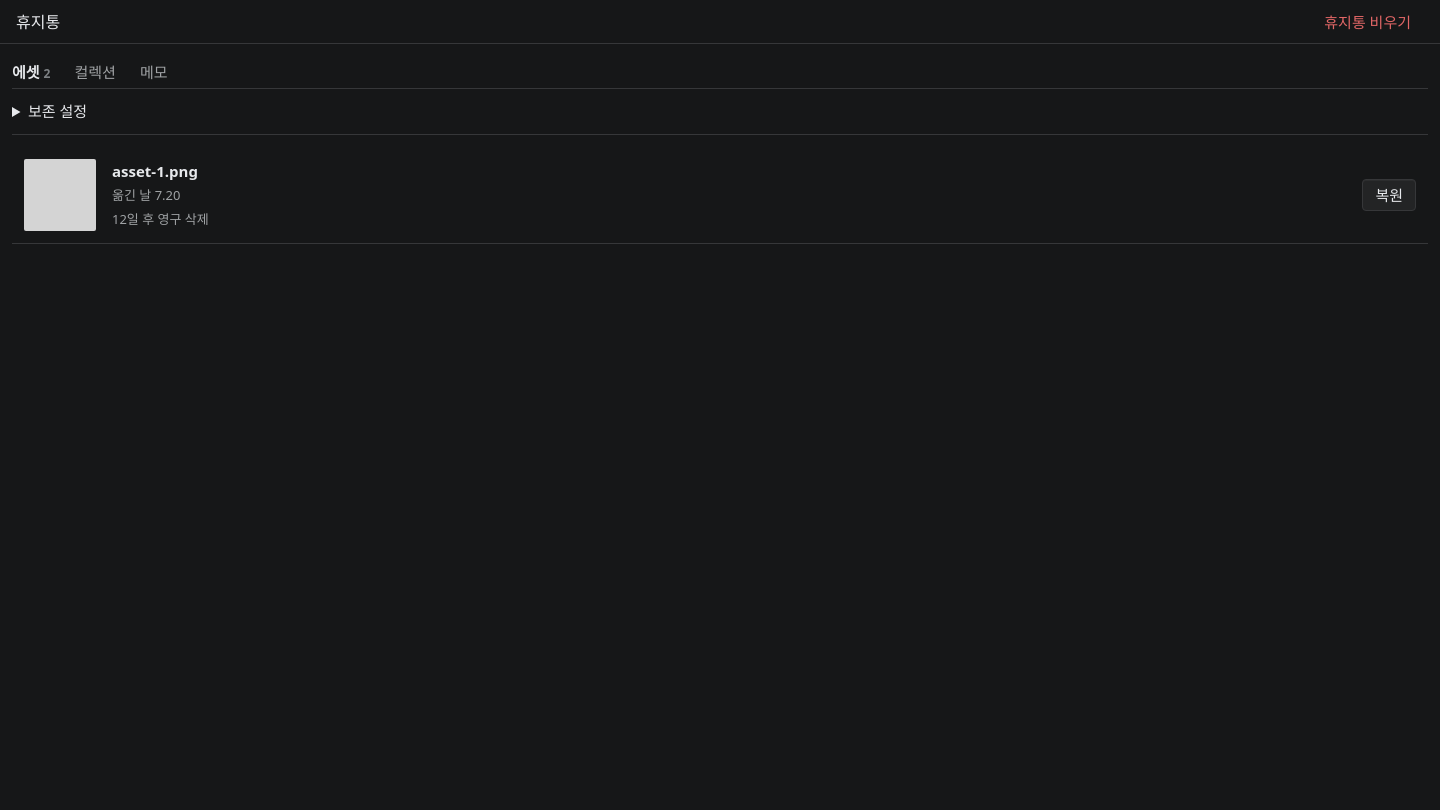
Scenario: ignores an older policy completion after a newer refresh
Click the heading "보존 설정".
click(57, 111)  # box [28,101,87,121]
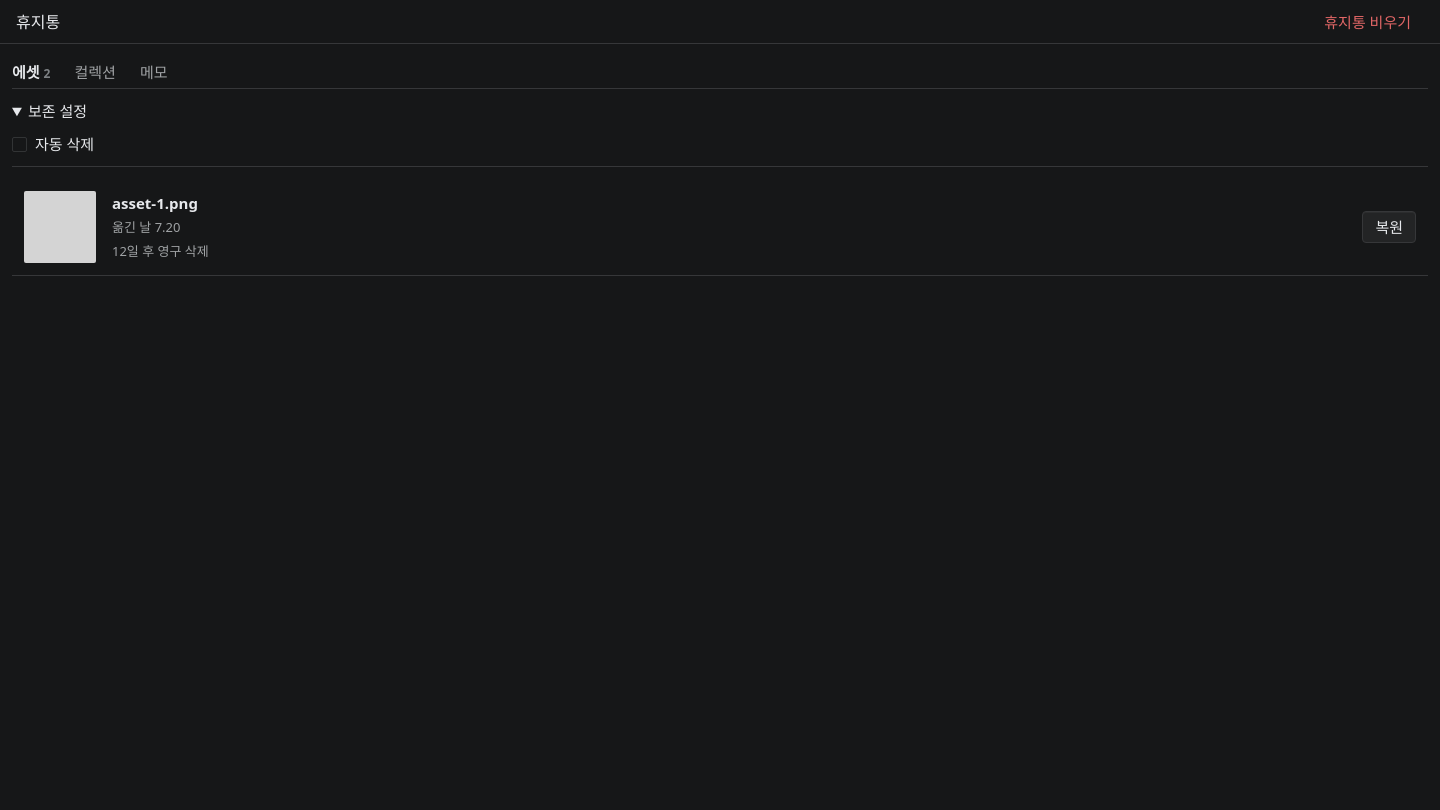
Click the button "복원".
click(1389, 227)  # box [1362,211,1416,243]
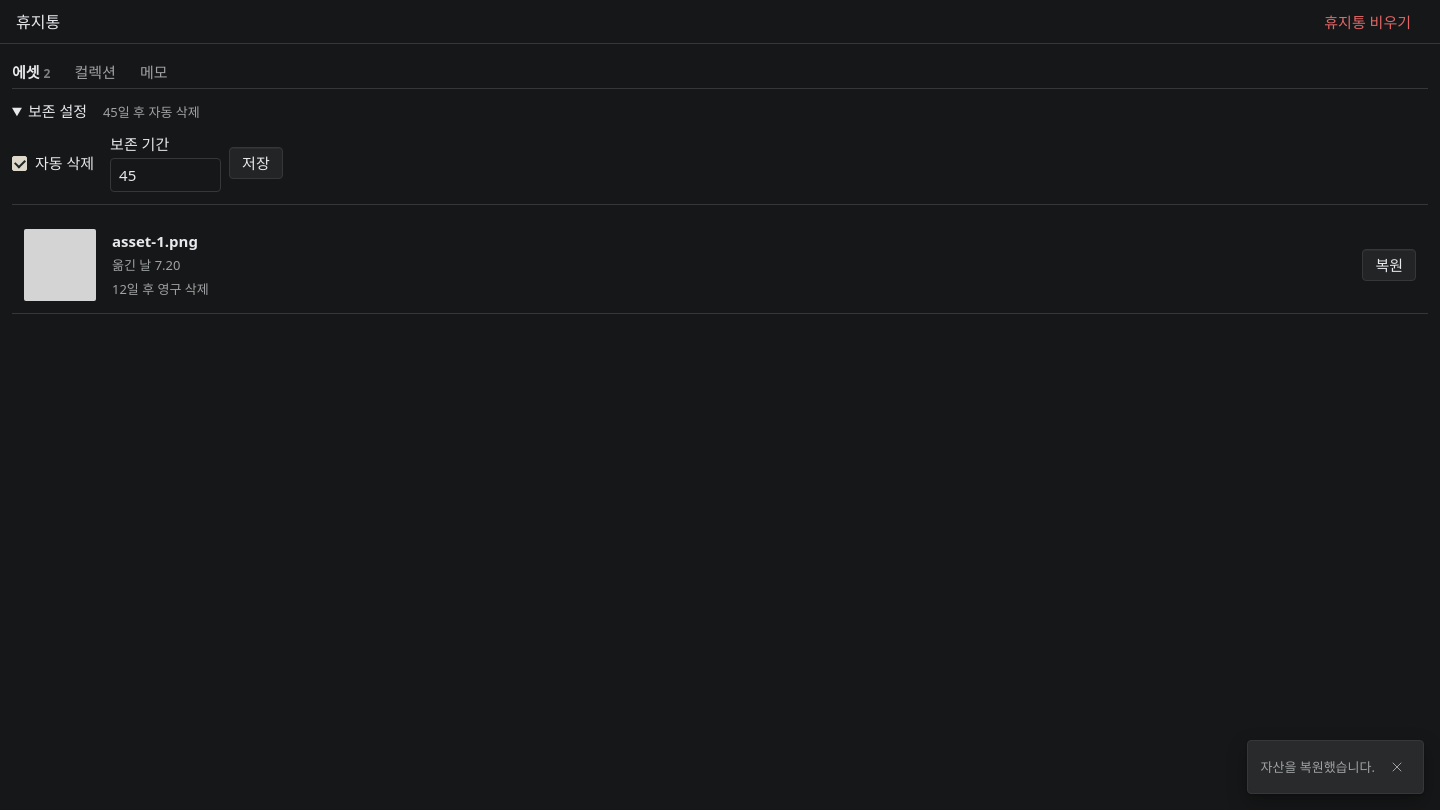
Now the number field labelled "보존 기간" holds "45", box [110,158,221,192]
